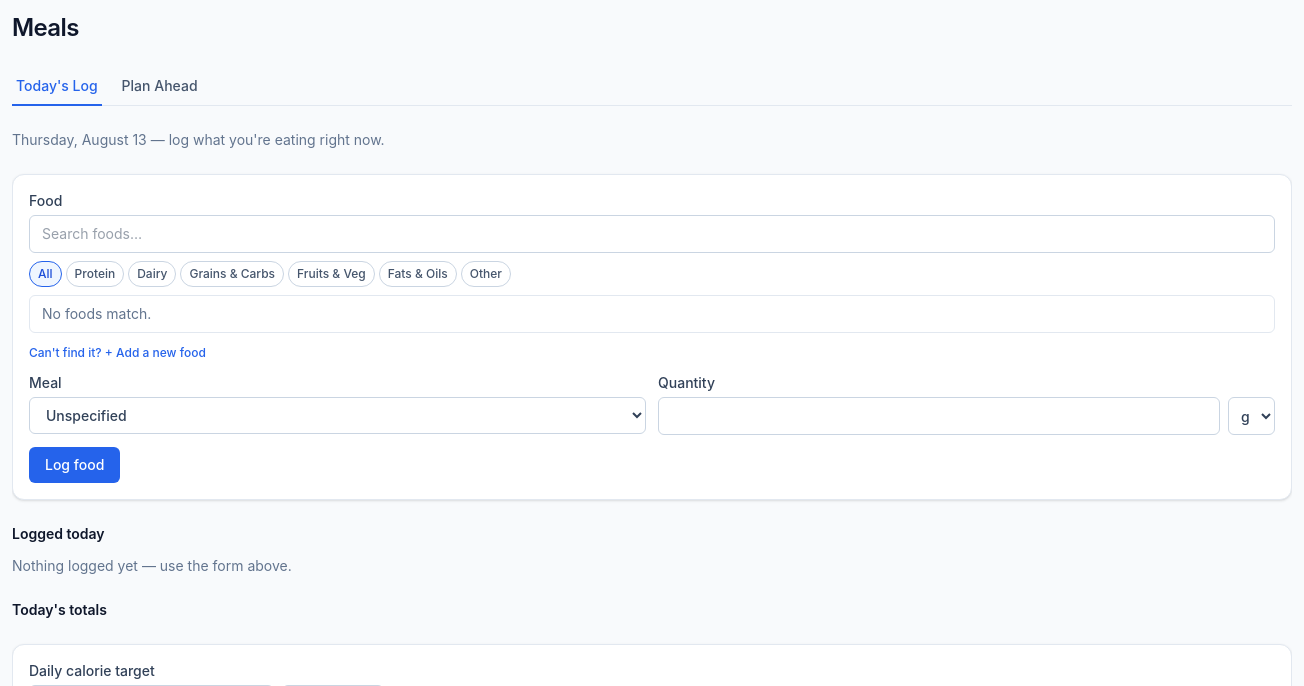
MealPlannerView › deletes a plan and clears totals when it was selected
The image size is (1304, 686).
Click the button "Plan Ahead" at (160,87), box [118,68,202,106]
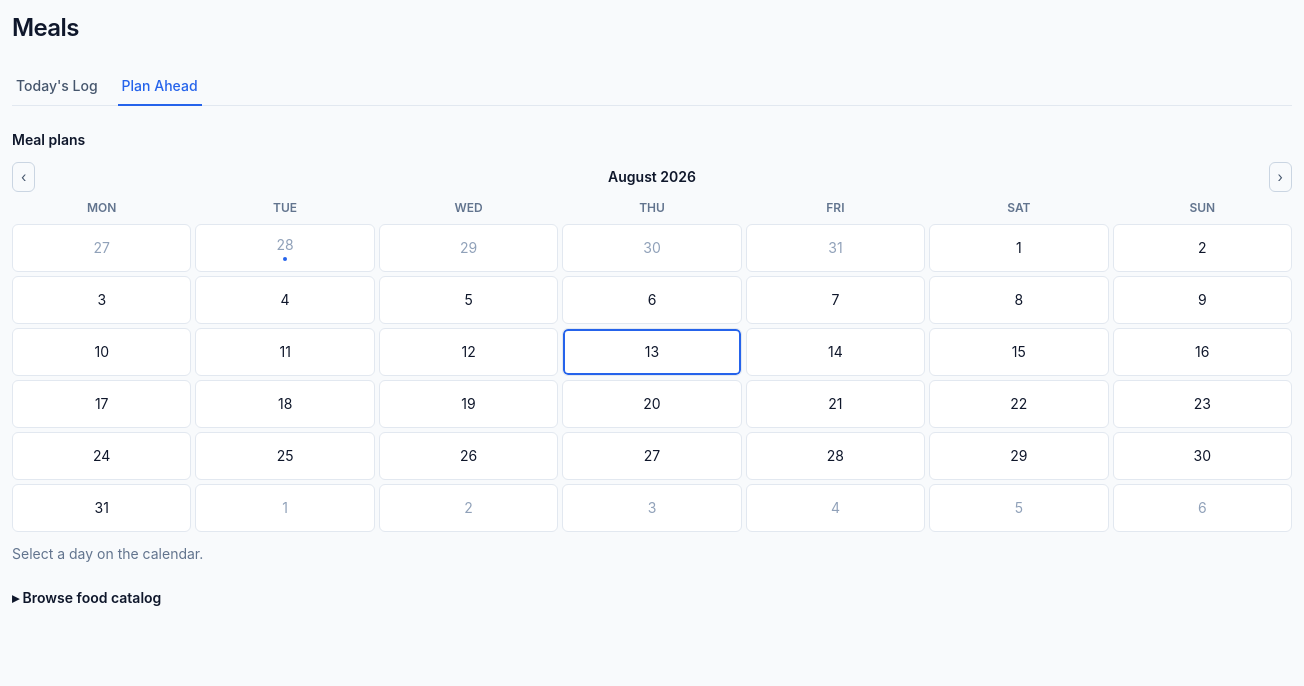
Click the 1st button "28" at (285,248), box [195,224,375,272]
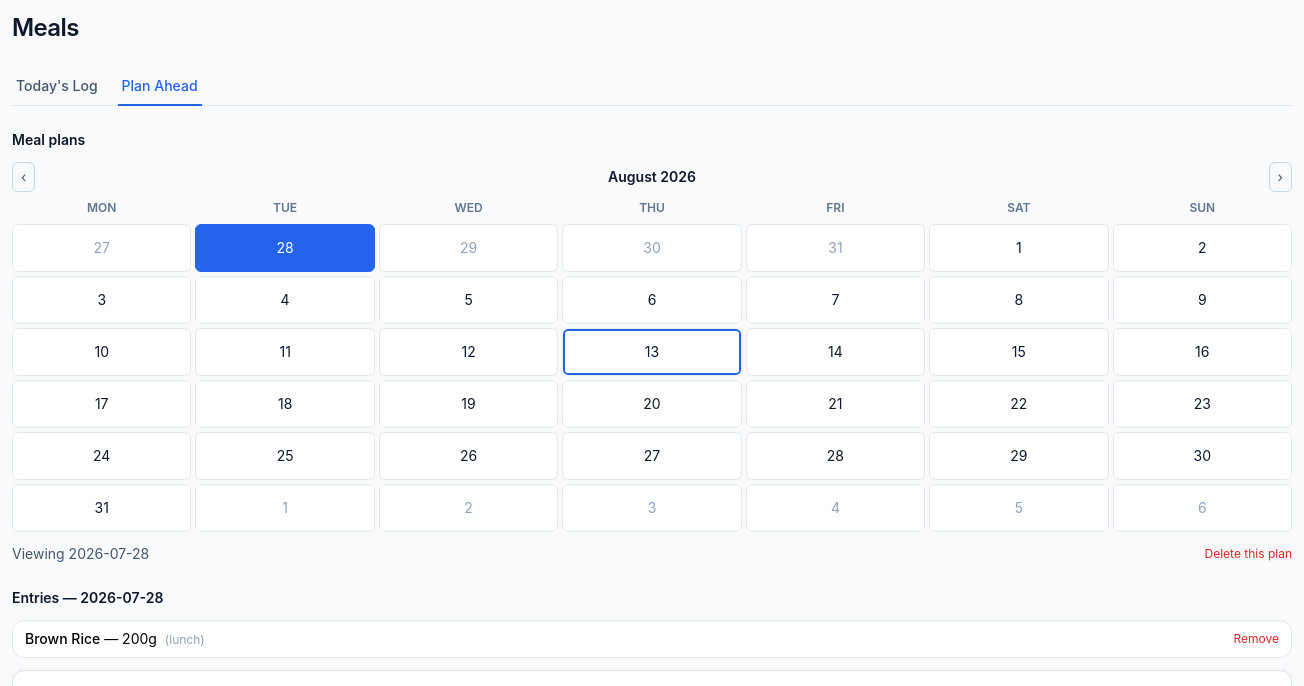
Click the button "Delete this plan" at (1248,554), box [1204,546,1292,562]
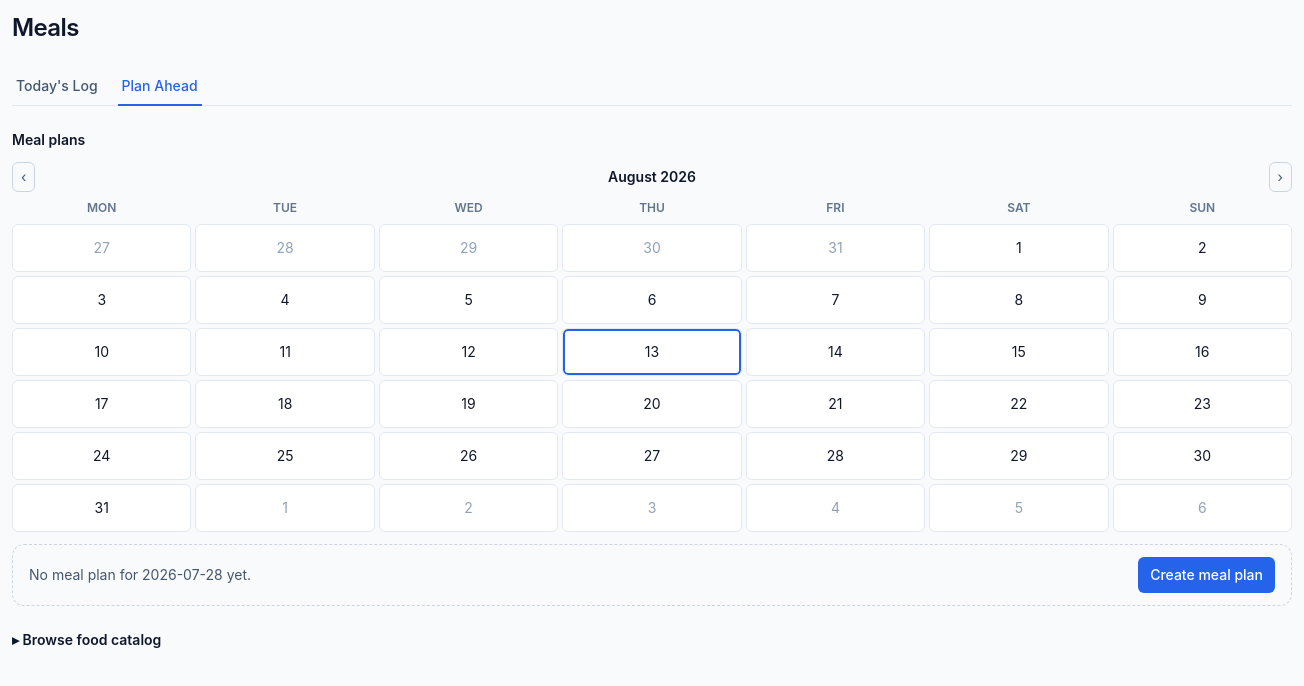
expect the text "No meal plan for 2026-07-28 yet." is shown: met, box [29,565,251,585]
